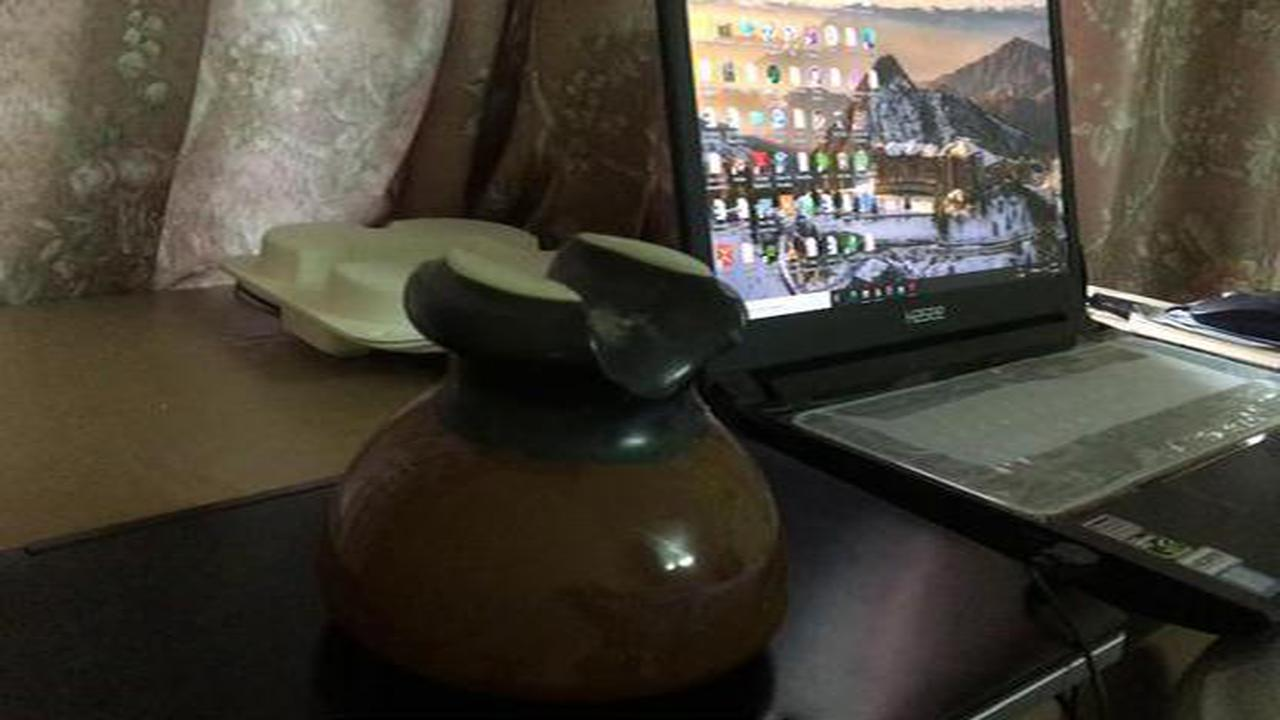insulator_pin: (308, 219, 816, 703)
